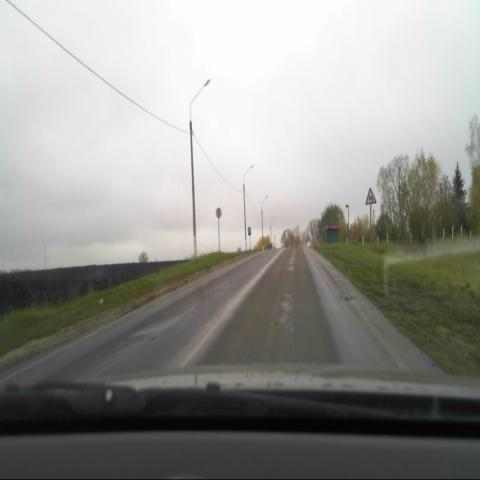1_12_2: (364, 187, 377, 205)
